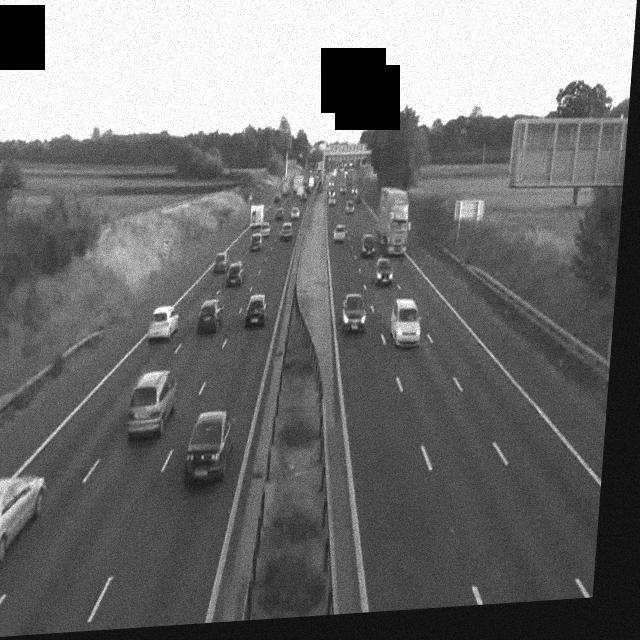car: (0, 475, 46, 576), (182, 410, 236, 486), (125, 368, 178, 439), (389, 297, 423, 347), (339, 291, 368, 335), (146, 306, 181, 340), (197, 297, 226, 335), (243, 295, 268, 328), (373, 259, 394, 286), (225, 260, 245, 287), (361, 233, 377, 258), (211, 252, 229, 273), (249, 231, 264, 252), (332, 223, 348, 242), (279, 222, 294, 241), (274, 205, 285, 222), (290, 206, 301, 221), (345, 200, 356, 213), (328, 192, 337, 206), (273, 191, 281, 203)
truck: (372, 184, 413, 256), (249, 201, 266, 228), (299, 175, 312, 198)
